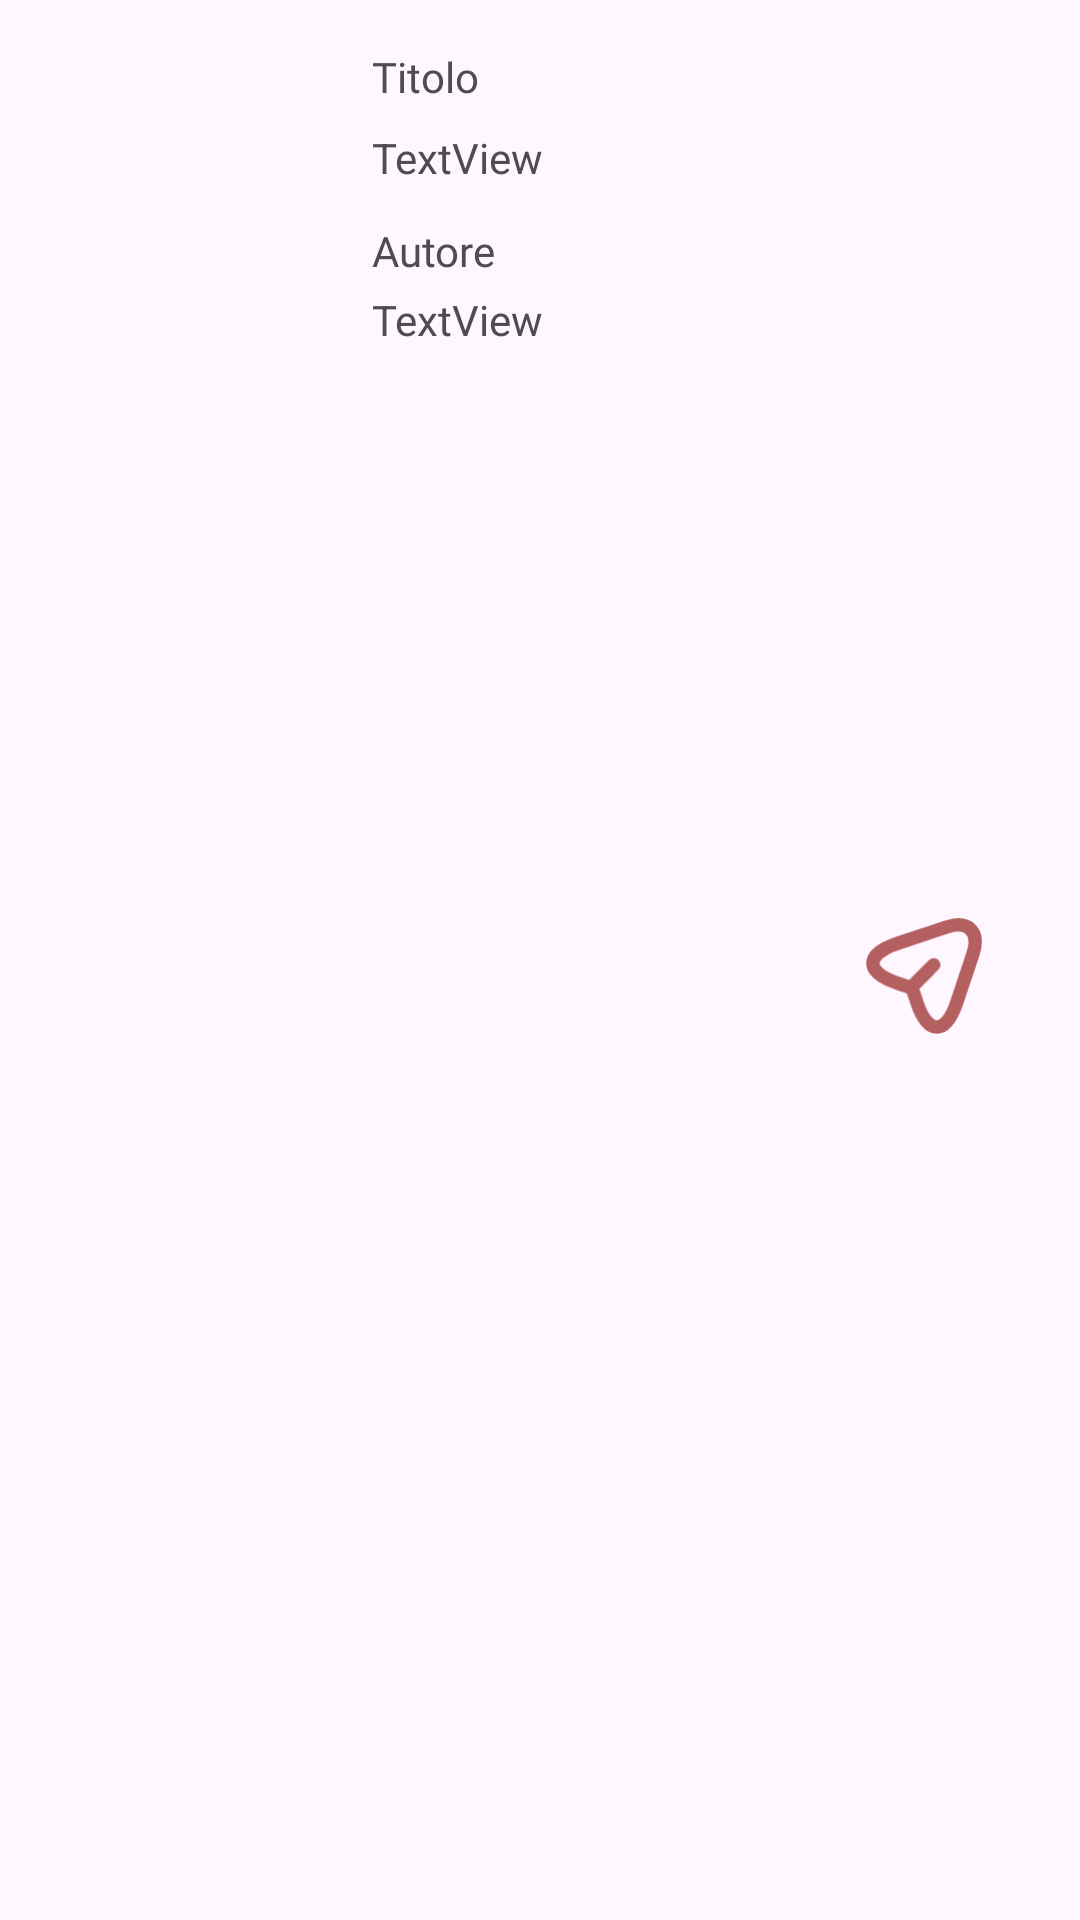

Icon bounding boxes for this 1080 × 1920 phone screenshot, format [left=x1, top=y1, right=x2, bottom=y2]:
send: [left=866, top=918, right=982, bottom=1034]
